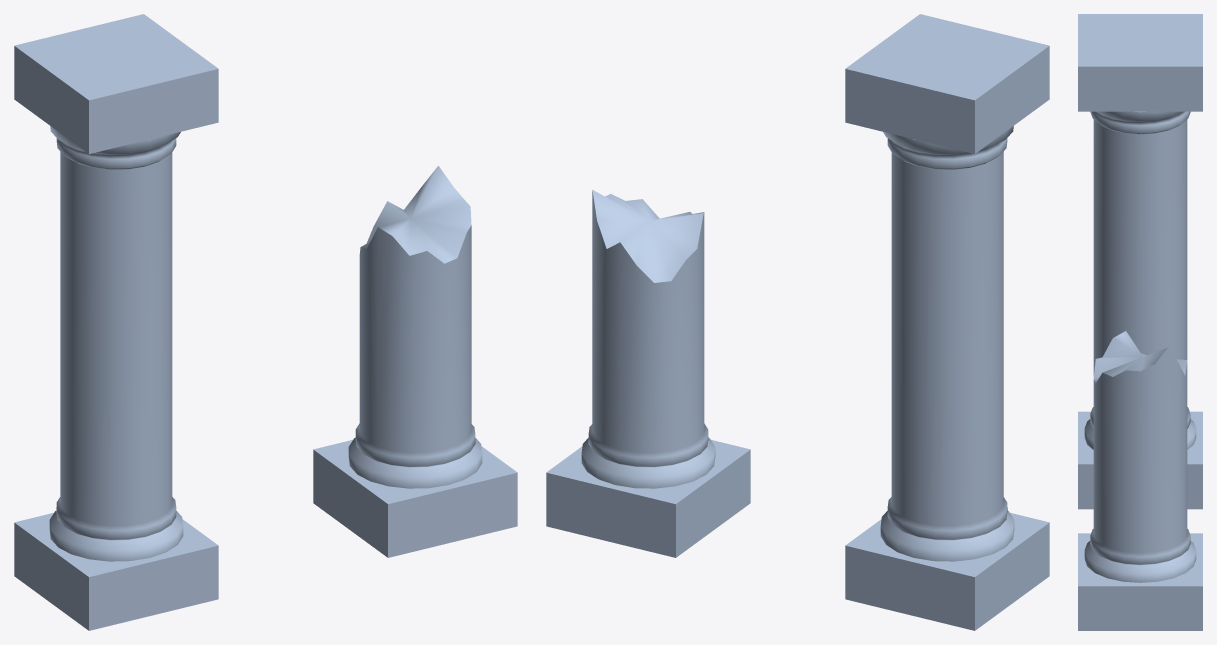
Rendered from pillars!.fbx.
3 views of the same model, side by side, from view 1: azimuth 30°, elevation 25°; view 2: azimuth 150°, elevation 25°; view 3: azimuth 270°, elevation 25° (orthographic). The views are drawn at different scales.
Visible parts, largest first — view 1: polySurface4, polySurface5; view 2: polySurface4, polySurface5; view 3: polySurface4, polySurface5.
Part boxes in pixels (x1=…): polySurface4: x1=14, y1=14, x2=218, y2=630; polySurface5: x1=313, y1=165, x2=517, y2=557; polySurface4: x1=845, y1=14, x2=1049, y2=630; polySurface5: x1=546, y1=190, x2=750, y2=557; polySurface4: x1=1078, y1=14, x2=1202, y2=509; polySurface5: x1=1078, y1=331, x2=1202, y2=630.
Size of the model in its own units: 12.84 by 15.18 by 3.88.
